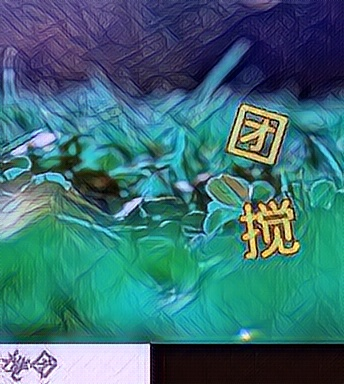BDC1: (239, 197, 300, 261)
CDC5: (225, 101, 287, 165)
